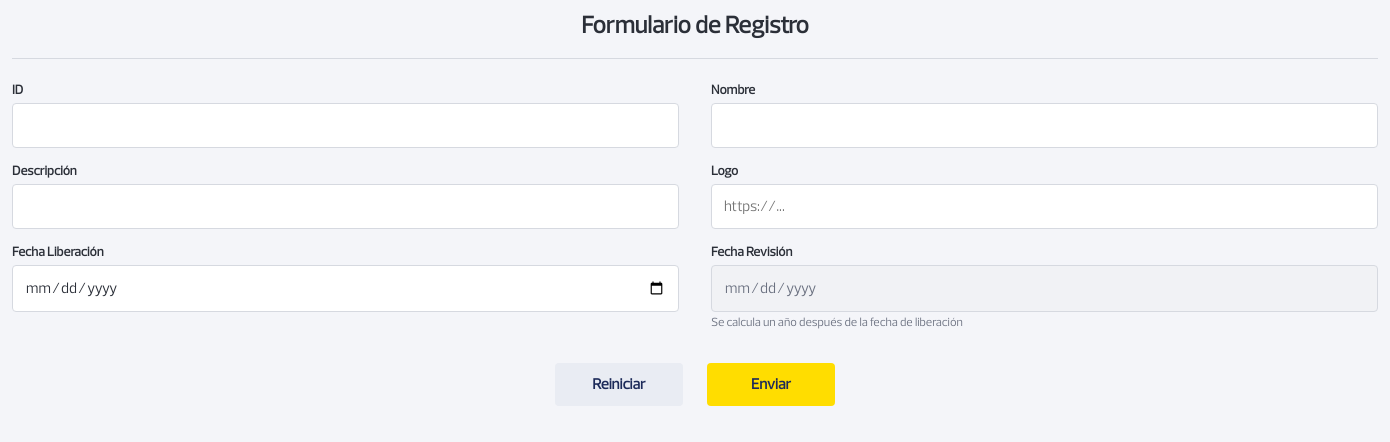
Test case: ProductFormComponent › should show an error when name is "Tarj"
Type "Tarj" into the field labelled "Nombre" at {"x": 1044, "y": 126}, box [711, 103, 1378, 148]
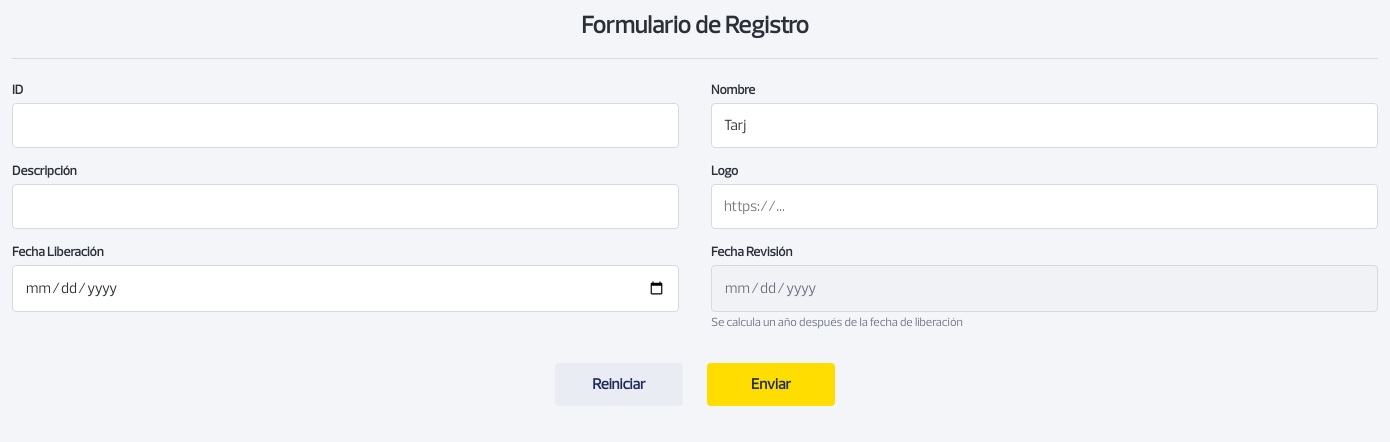
Leave the field labelled "Nombre", box [711, 103, 1378, 148]
Wait 300 ms
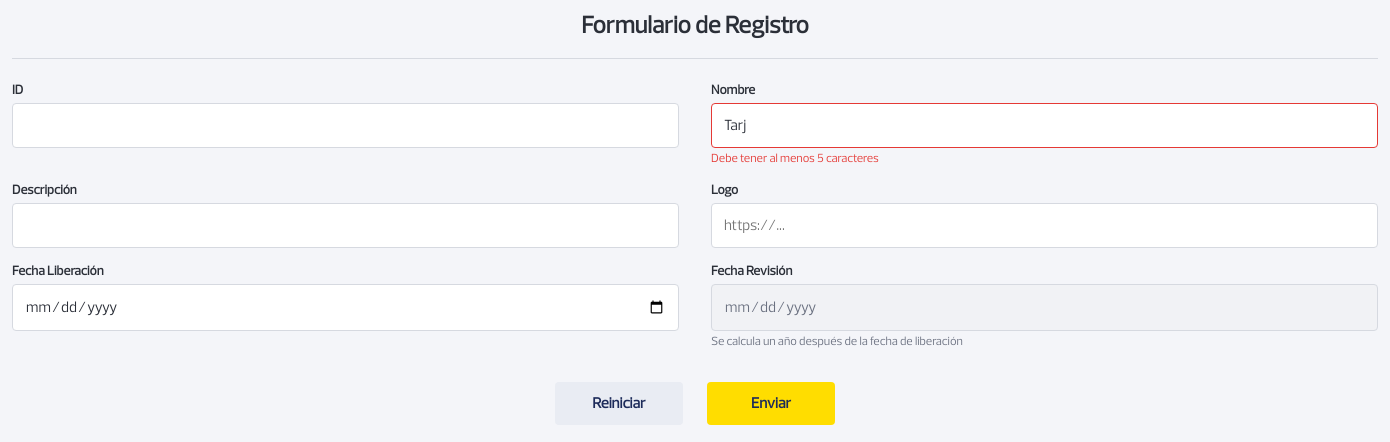
Check: the text "Debe tener al menos 5 caracteres" is shown, box [711, 153, 879, 165]
